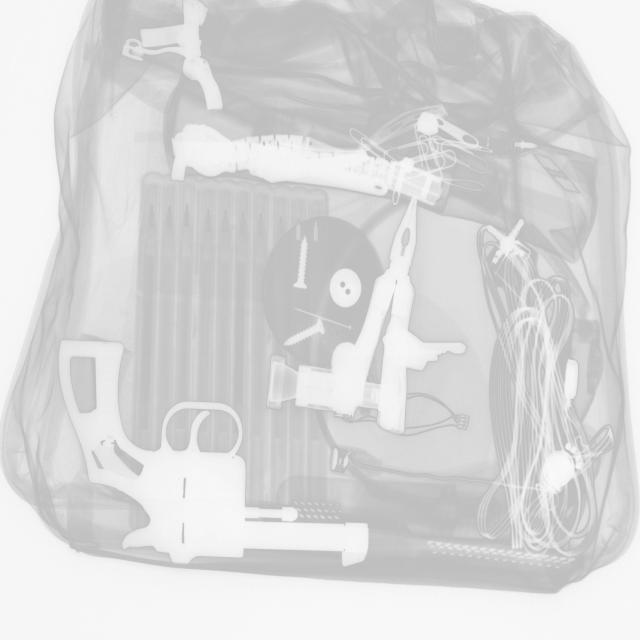pistol: (56, 336, 372, 568)
